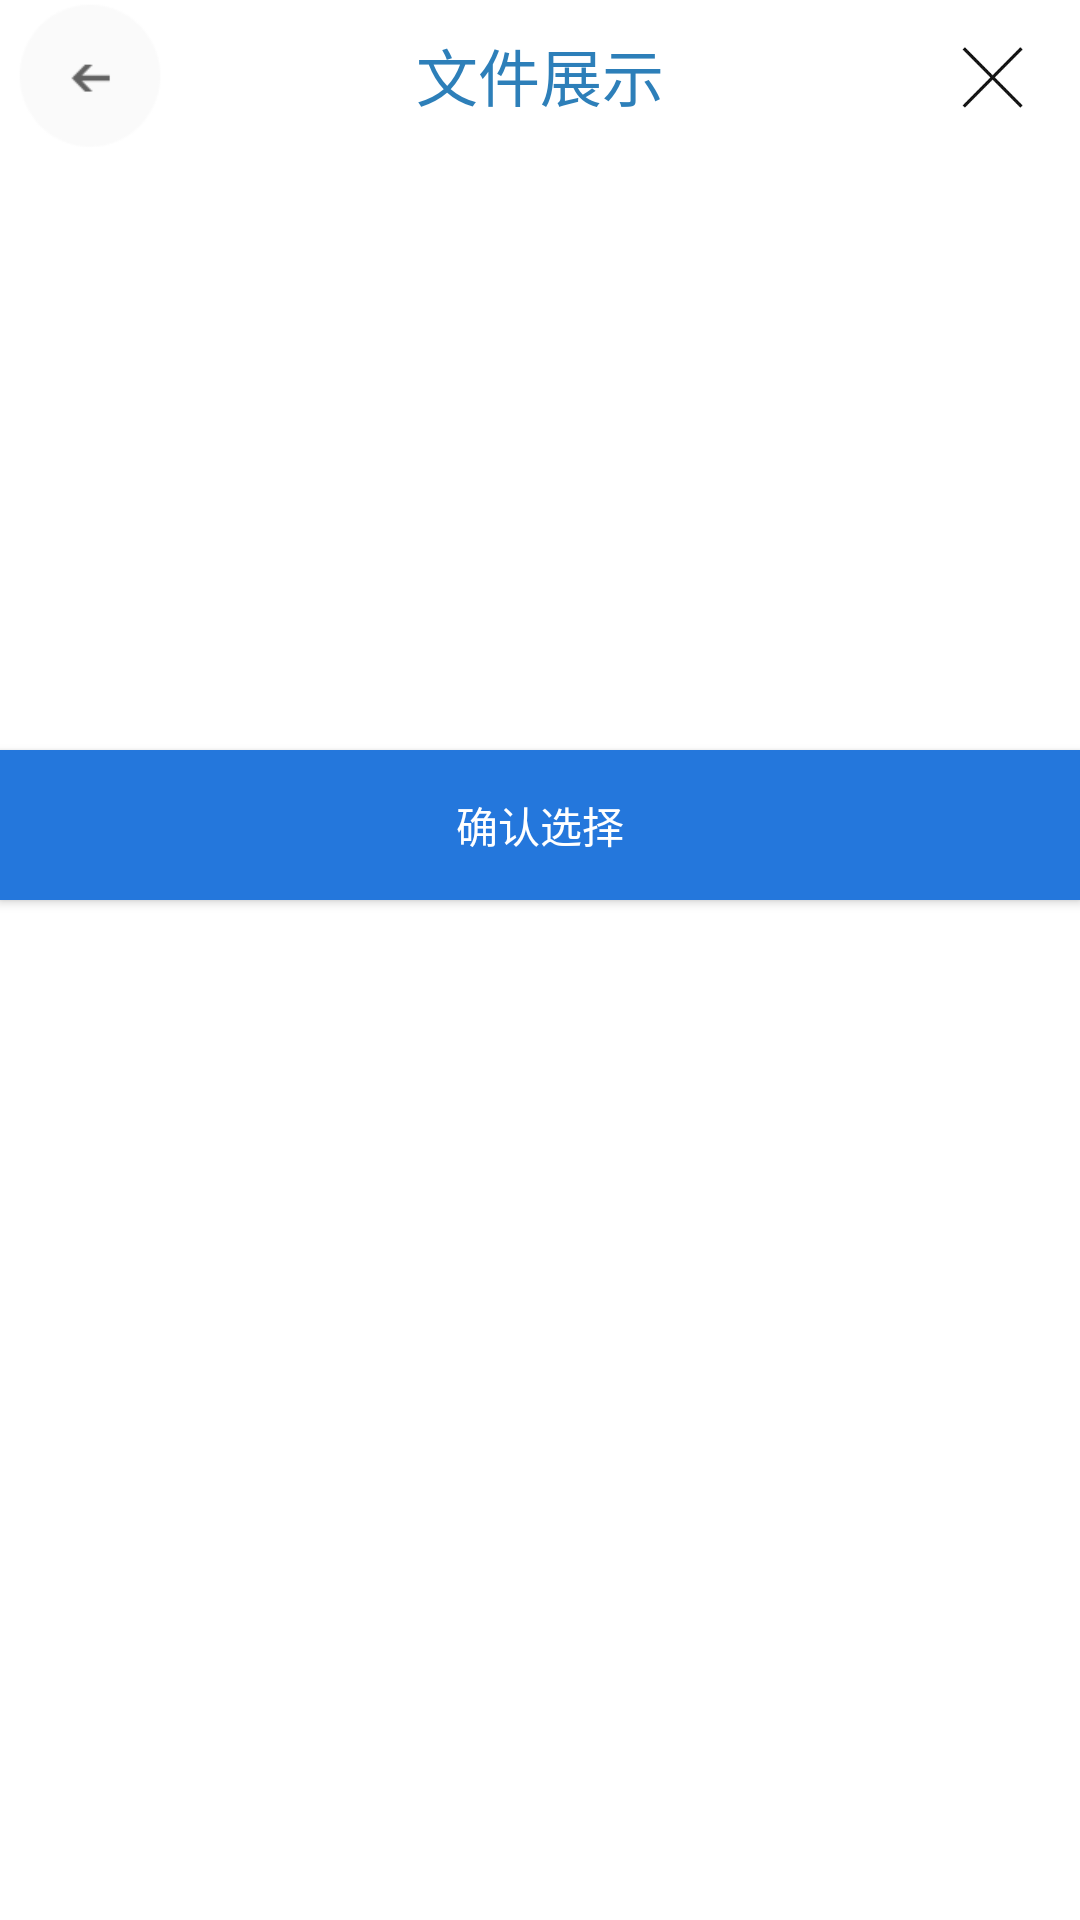

Point at icon controls on the screen. Image size 1080 × 1920, points as (x=x, y=y).
back: (x=90, y=78)
